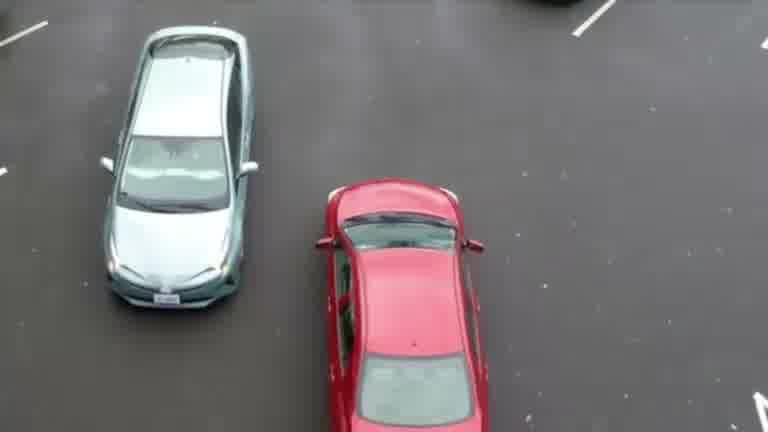car: (98, 22, 265, 331), (307, 180, 497, 432)
